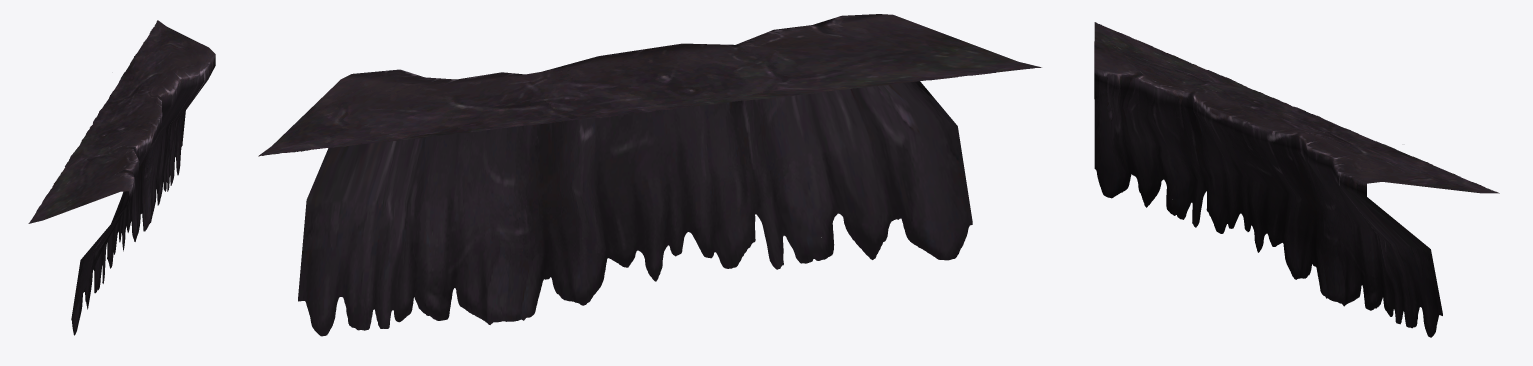
File: cave_trim_diagonal_01.fbx
The picture shows the model from 3 angles, left to right: view 1: azimuth 30°, elevation 25°; view 2: azimuth 150°, elevation 25°; view 3: azimuth 270°, elevation 25°; orthographic projection. The views are drawn at different scales.
Visible parts, largest first — view 1: cave_tileset/trim01_mat; view 2: cave_tileset/trim01_mat; view 3: cave_tileset/trim01_mat.
Boxes of the visible parts, box(x1,y1,x2,y2) form: cave_tileset/trim01_mat: box(28, 20, 215, 335); cave_tileset/trim01_mat: box(258, 14, 1041, 336); cave_tileset/trim01_mat: box(1094, 22, 1499, 337).
Bounding box in the file's own units: 4.4 × 1.96 × 4.4.
